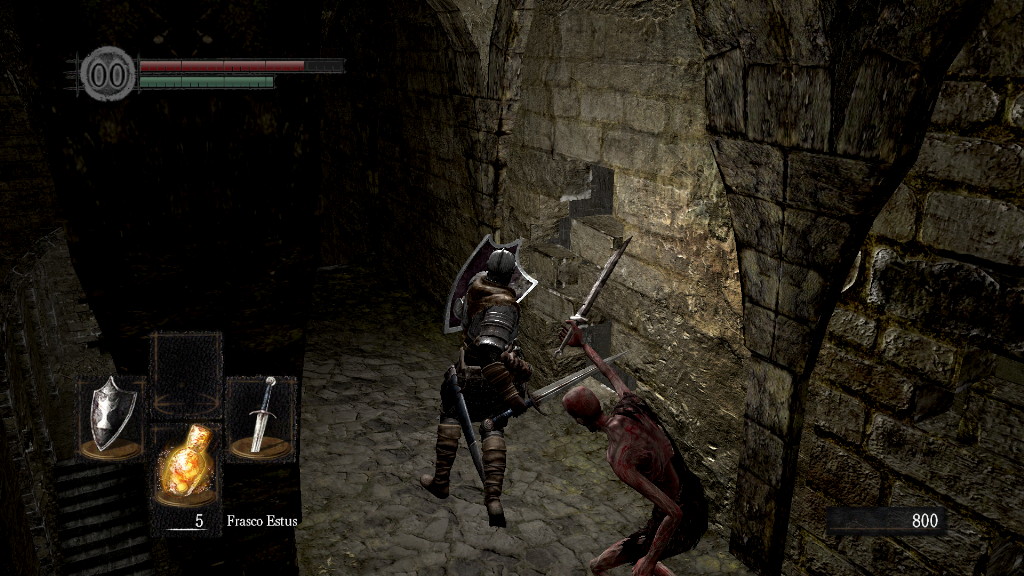health: (138, 58, 343, 71)
hollow: (557, 318, 712, 576)
humanity: (80, 45, 136, 102)
player: (419, 232, 628, 528)
souls: (825, 506, 945, 536)
stamina: (138, 74, 274, 88)
